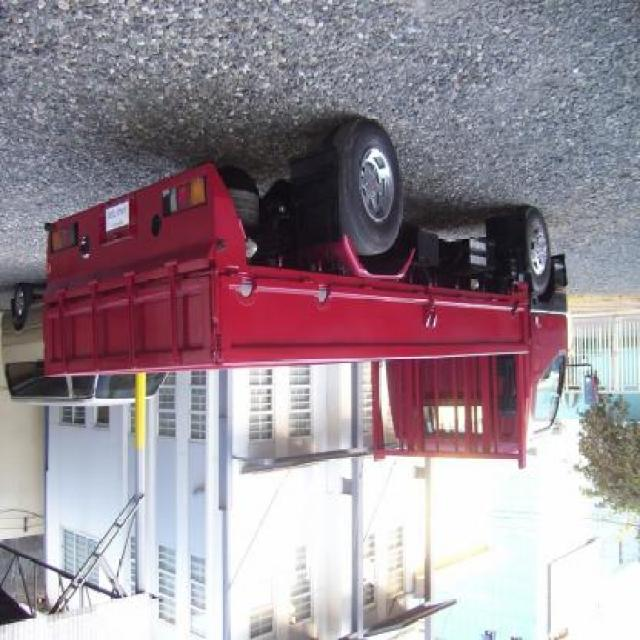truck: (45, 118, 602, 467)
